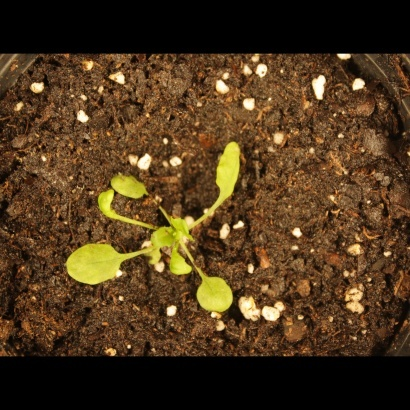leaf: (56, 239, 131, 296), (210, 136, 251, 209), (194, 271, 239, 321), (107, 168, 153, 201), (165, 246, 198, 285), (88, 186, 124, 220), (147, 227, 177, 250), (170, 215, 193, 238), (140, 245, 163, 268)
